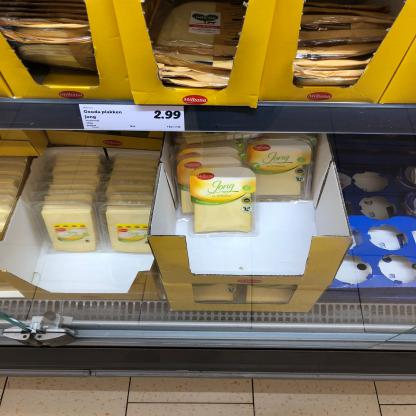prtg: (80, 105, 185, 133)
